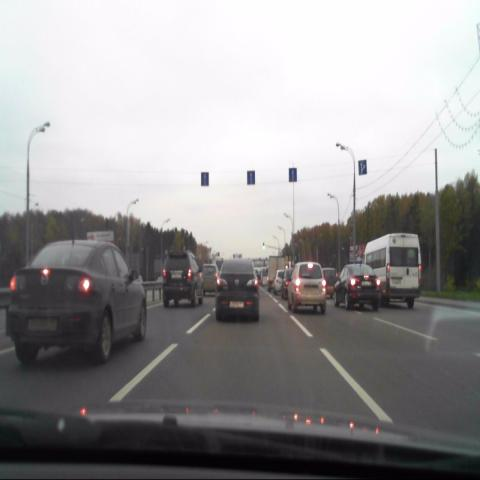5_15_2: (358, 160, 367, 176), (247, 170, 255, 184), (288, 167, 296, 181), (201, 172, 209, 185)
